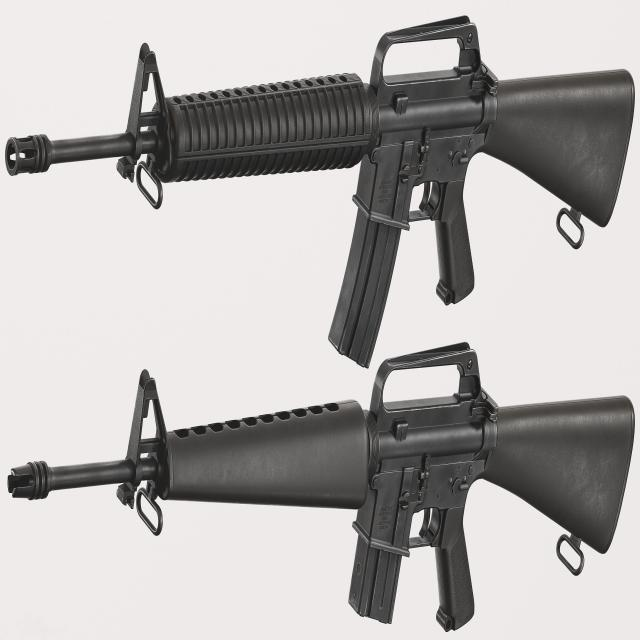m16: (9, 288, 468, 628)
